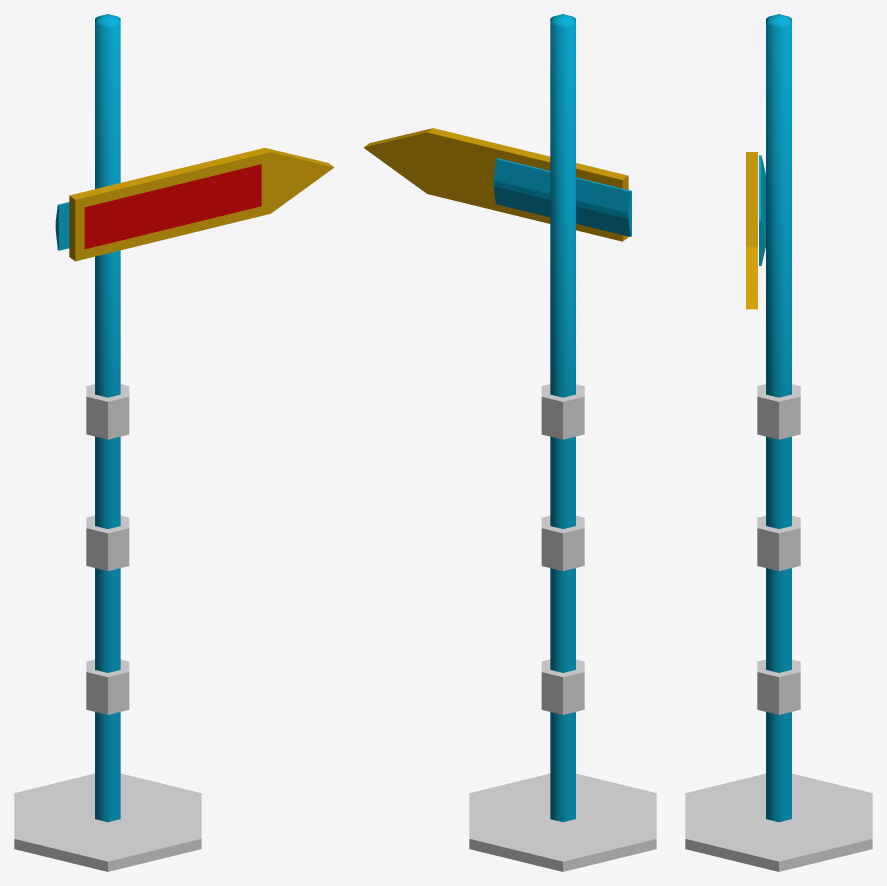
File: Sign1_low.FBX
The picture shows the model from 3 angles, left to right: view 1: azimuth 30°, elevation 25°; view 2: azimuth 150°, elevation 25°; view 3: azimuth 270°, elevation 25°; orthographic projection.
Visible parts, largest first — view 1: Cylinder001; view 2: Cylinder001; view 3: Cylinder001.
Boxes of the visible parts, x1,y1,x2,y2 form: Cylinder001: (14, 14, 334, 871); Cylinder001: (363, 14, 656, 871); Cylinder001: (685, 14, 872, 871).
Size of the model in its own units: 56.33 by 144 by 30.06.
